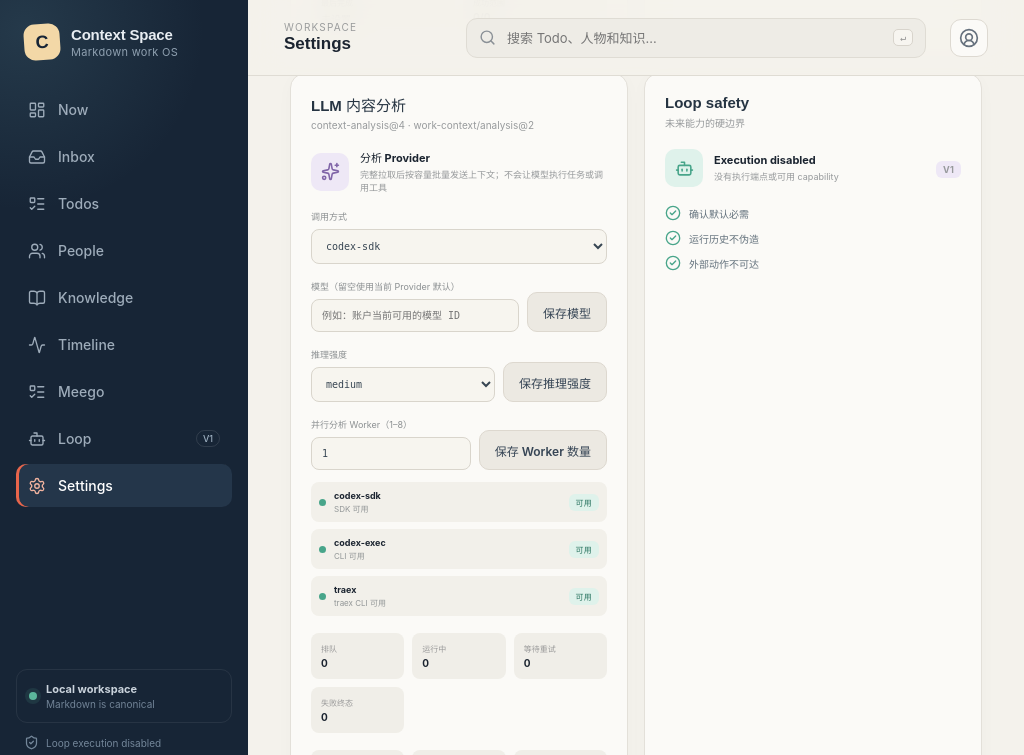
Test: Context Space workbench › configures reasoning effort only for Codex SDK
(page scrolled)
Select "high" in the dropdown named "Codex SDK 推理强度" at (403, 385), box x1=311 y1=367 x2=495 y2=402
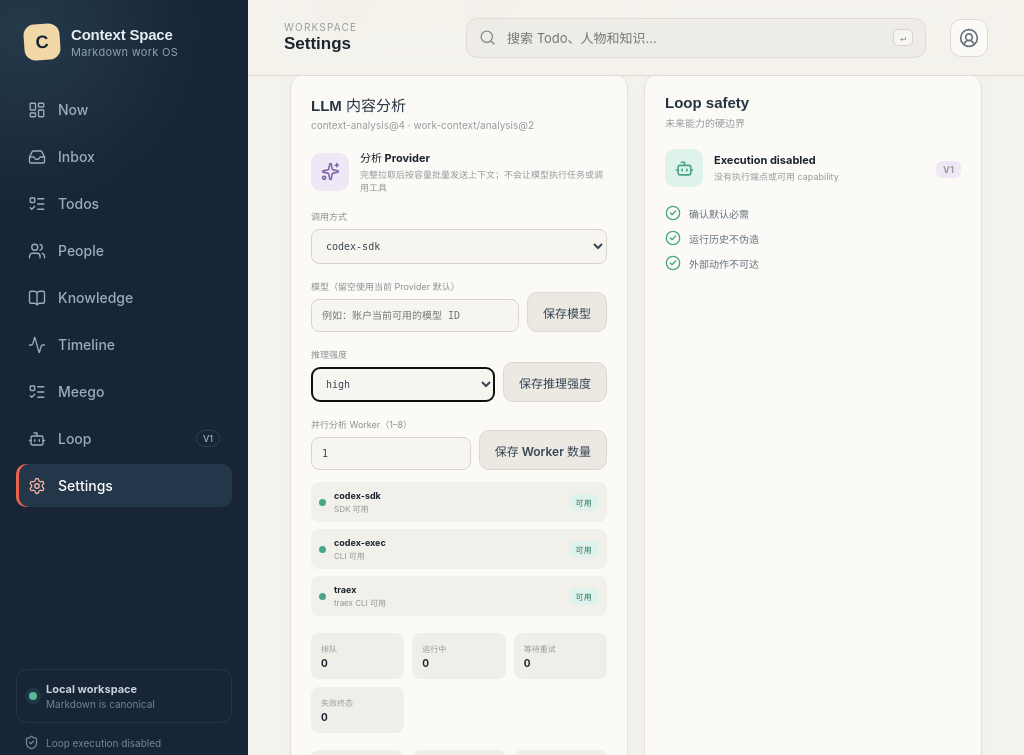
Click the button "保存推理强度".
click(555, 382)  # box x1=503 y1=362 x2=607 y2=402
(page scrolled)
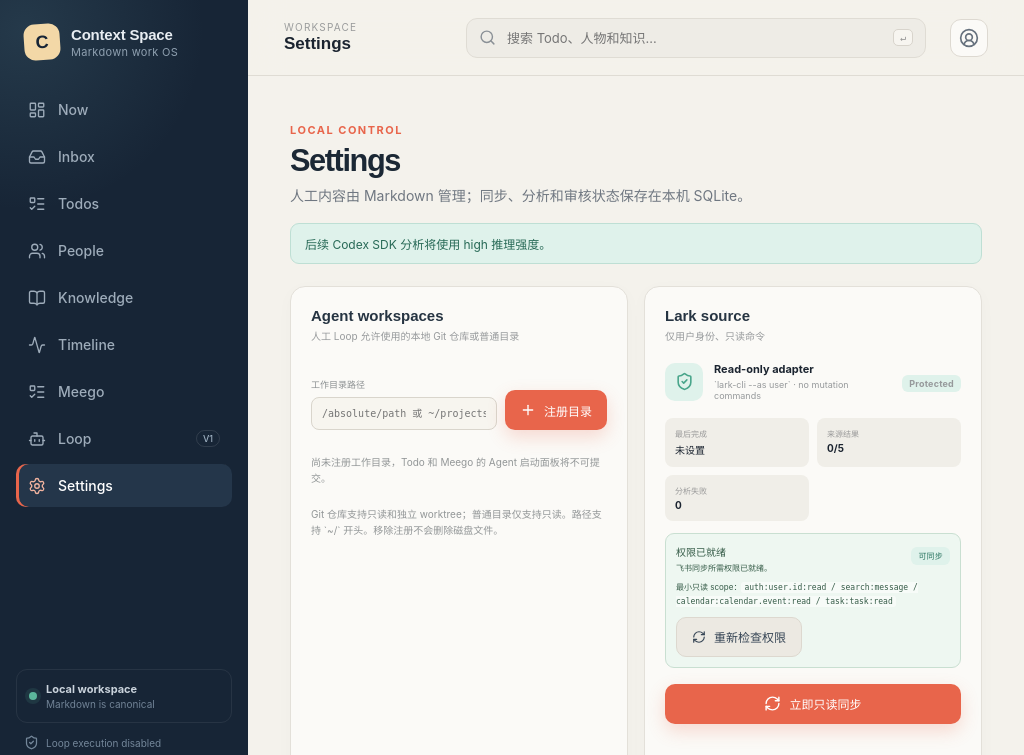
Expected: the text "后续 Codex SDK 分析将使用 high 推理强度。" is shown, x1=290 y1=223 x2=982 y2=264
